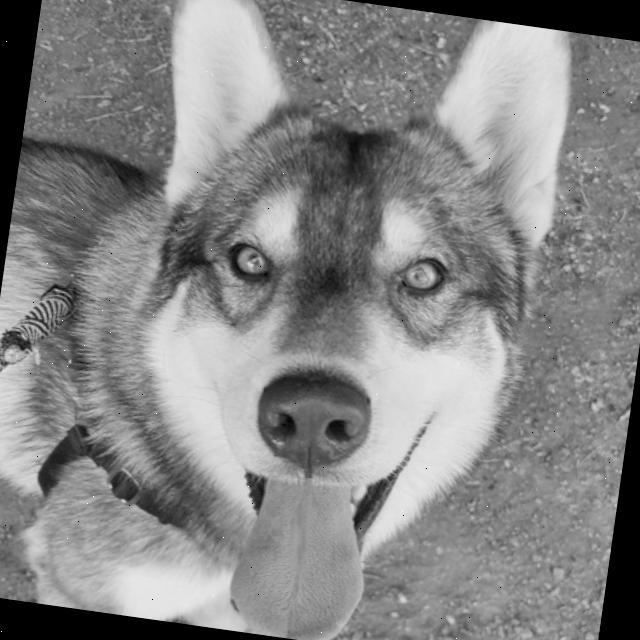siberian_husky_dog: (71, 0, 599, 640)
